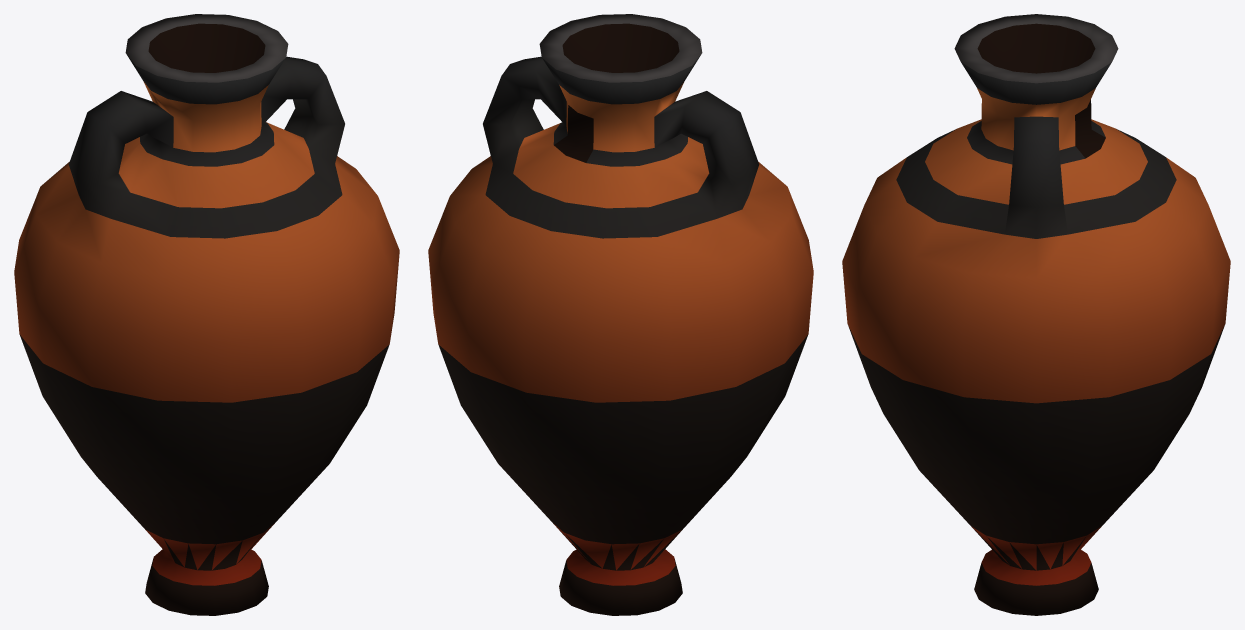
The model's file is furnishings-indoor-vase_v2.glb.
3 renders of one model, left to right at view 1: azimuth 30°, elevation 25°; view 2: azimuth 150°, elevation 25°; view 3: azimuth 270°, elevation 25°, orthographic.
Parts seen in each view (by area): view 1: Vase_v2; view 2: Vase_v2; view 3: Vase_v2.
Part boxes in pixels (x1,y1,x2,y2): Vase_v2: [14, 14, 399, 615]; Vase_v2: [428, 14, 813, 615]; Vase_v2: [842, 14, 1230, 615].
Size of the model in its own units: 0.5068 by 0.7784 by 0.5068.
